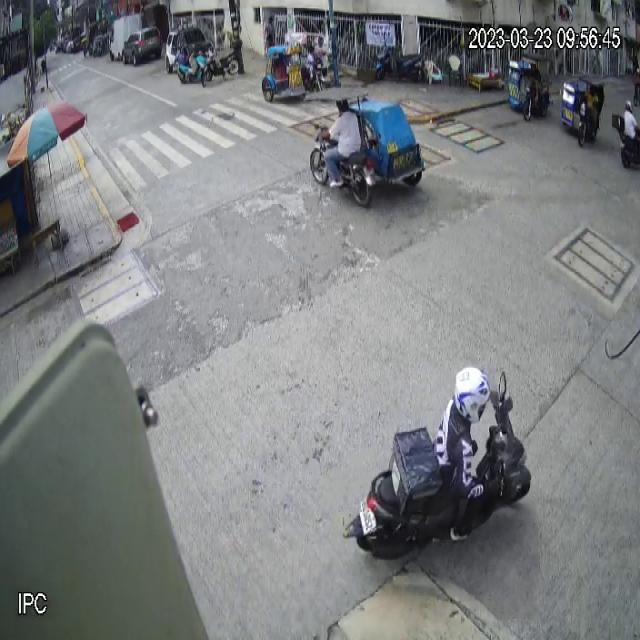Motorcycle: (341, 370, 532, 557)
Tricycle: (309, 90, 425, 207), (260, 32, 326, 102), (560, 73, 606, 148), (508, 51, 552, 122)
